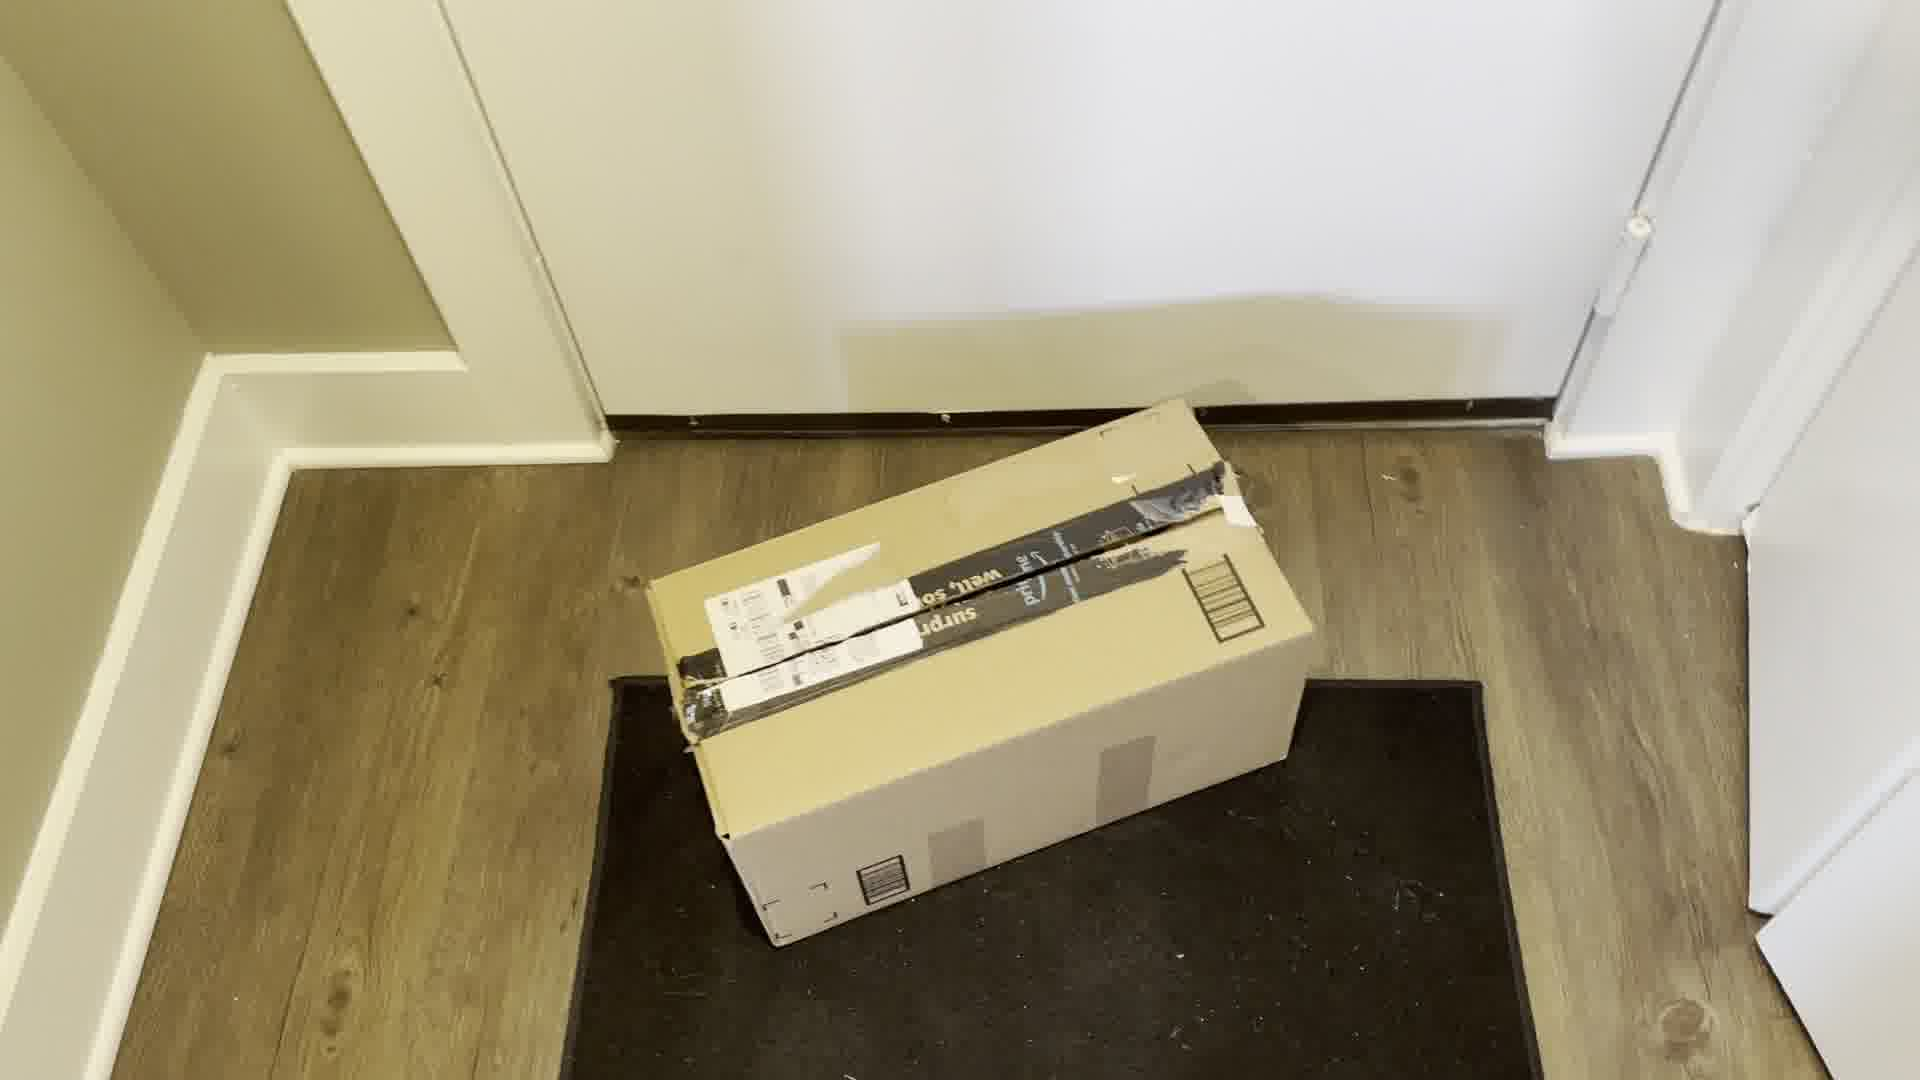box: (608, 421, 1338, 945)
